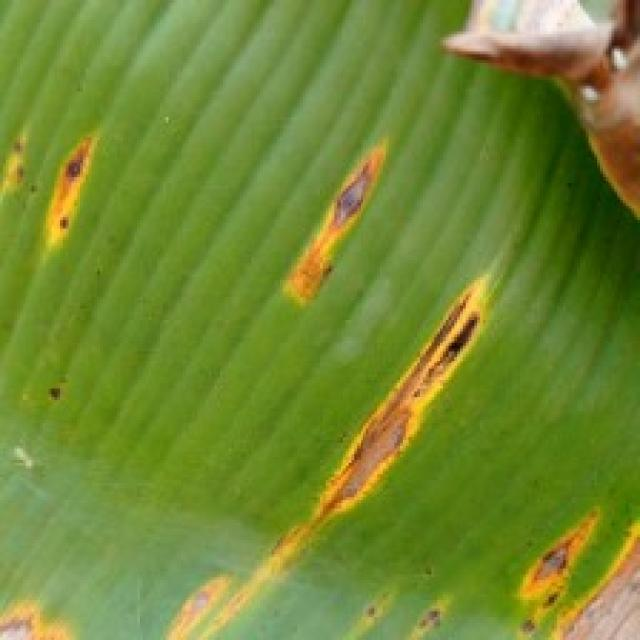Bacterial_spot: (166, 261, 519, 635), (434, 0, 640, 243), (260, 118, 406, 322), (494, 451, 640, 640), (0, 111, 117, 263), (0, 582, 96, 637)
